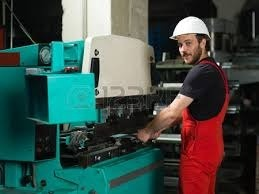helmet: (168, 15, 213, 42)
person with partial safety: (167, 14, 230, 192)
